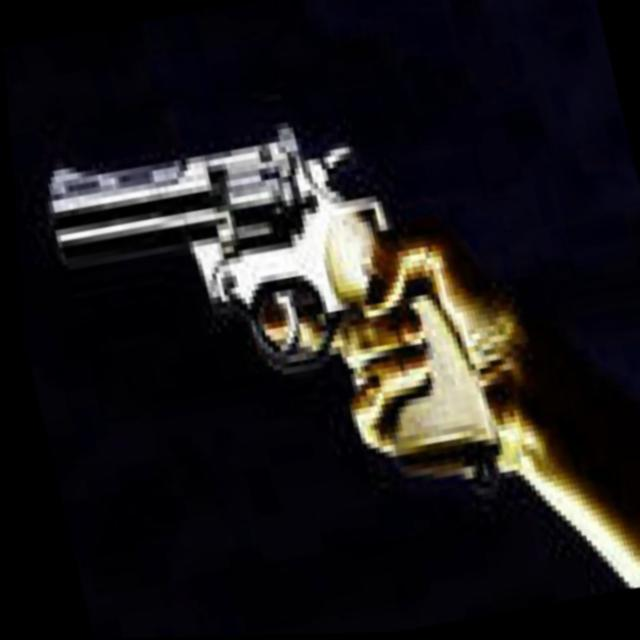weapon: (24, 65, 640, 640)
